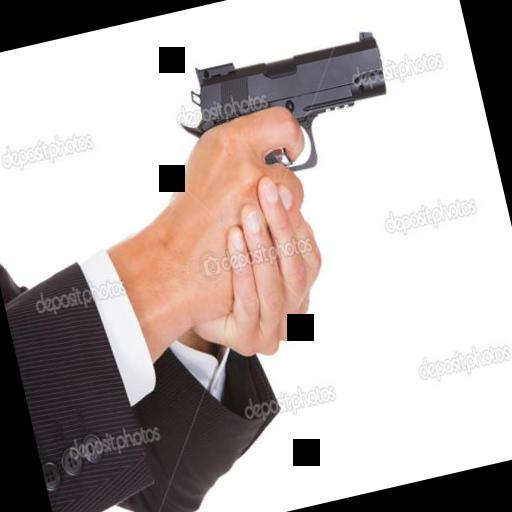Handgun: (169, 24, 422, 288)
